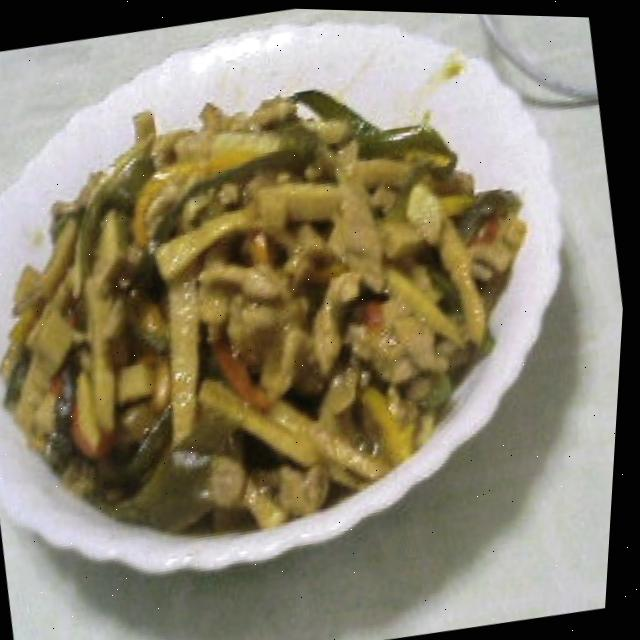牛肉菜式: (0, 0, 639, 623)
